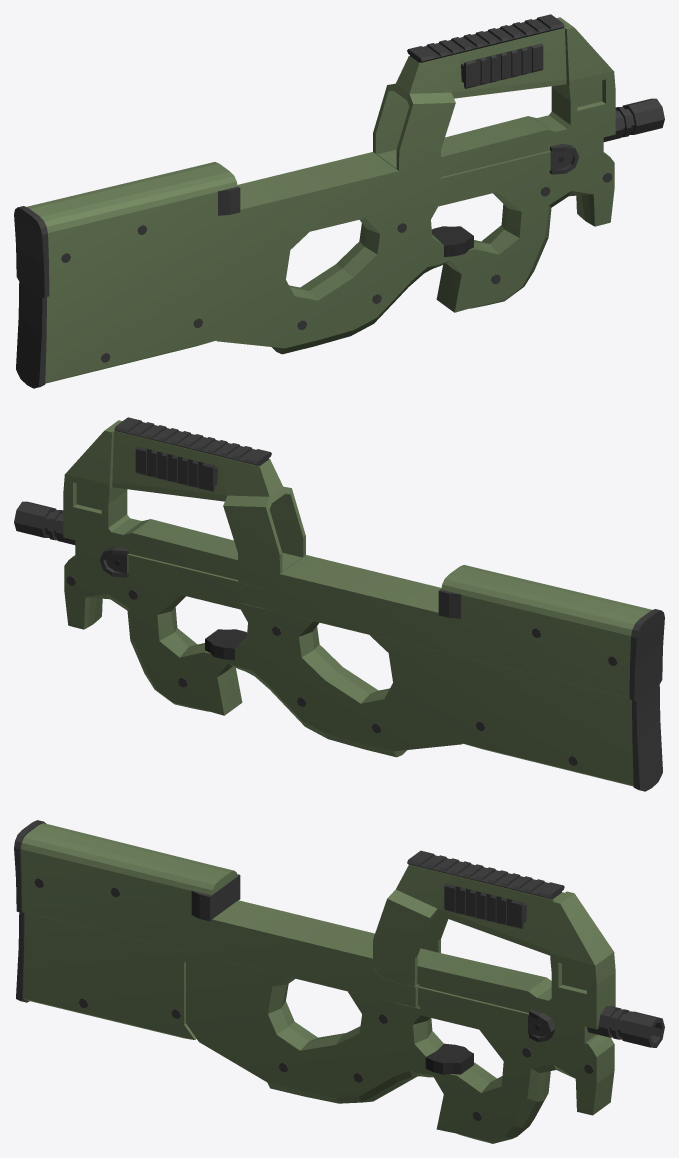
Rendered from SMG4_06.fbx.
The picture shows the model from 3 angles, top to bottom: view 1: azimuth 30°, elevation 25°; view 2: azimuth 150°, elevation 25°; view 3: azimuth 330°, elevation 25°; orthographic projection.
Visible parts, largest first — view 1: SMG4_06; view 2: SMG4_06; view 3: SMG4_06.
Part boxes in pixels (left/top/right/bottom): SMG4_06: left=14, top=14, right=664, bottom=388; SMG4_06: left=14, top=417, right=664, bottom=791; SMG4_06: left=14, top=820, right=664, bottom=1143.
Size of the model in its own units: 0.6062 by 0.244 by 0.0506.
